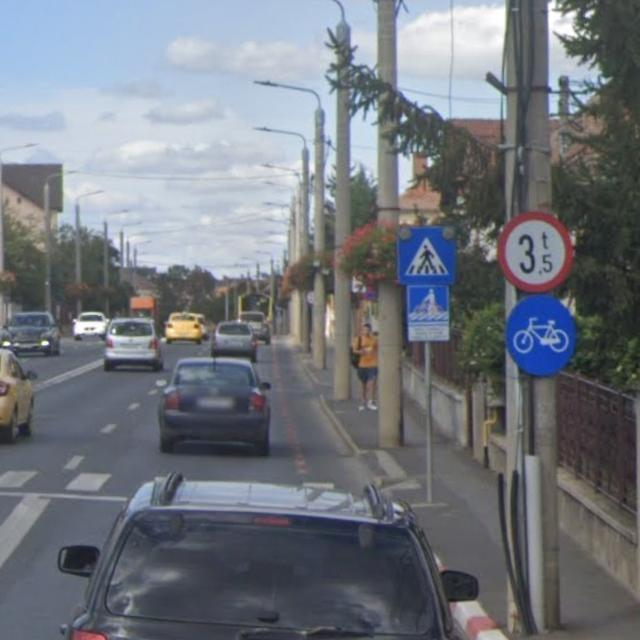info_crosswalk: (396, 226, 457, 286)
